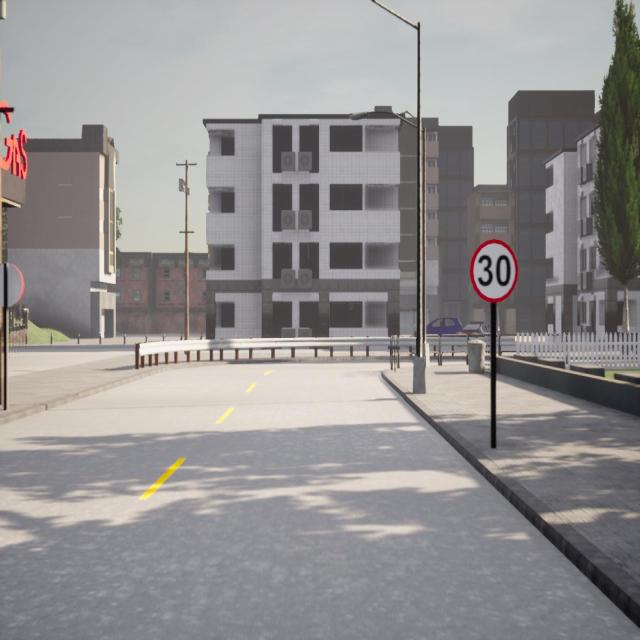Traffic_Signs: (470, 240, 519, 302), (0, 261, 25, 309)
Vehicle: (426, 317, 462, 334), (456, 320, 490, 337)
